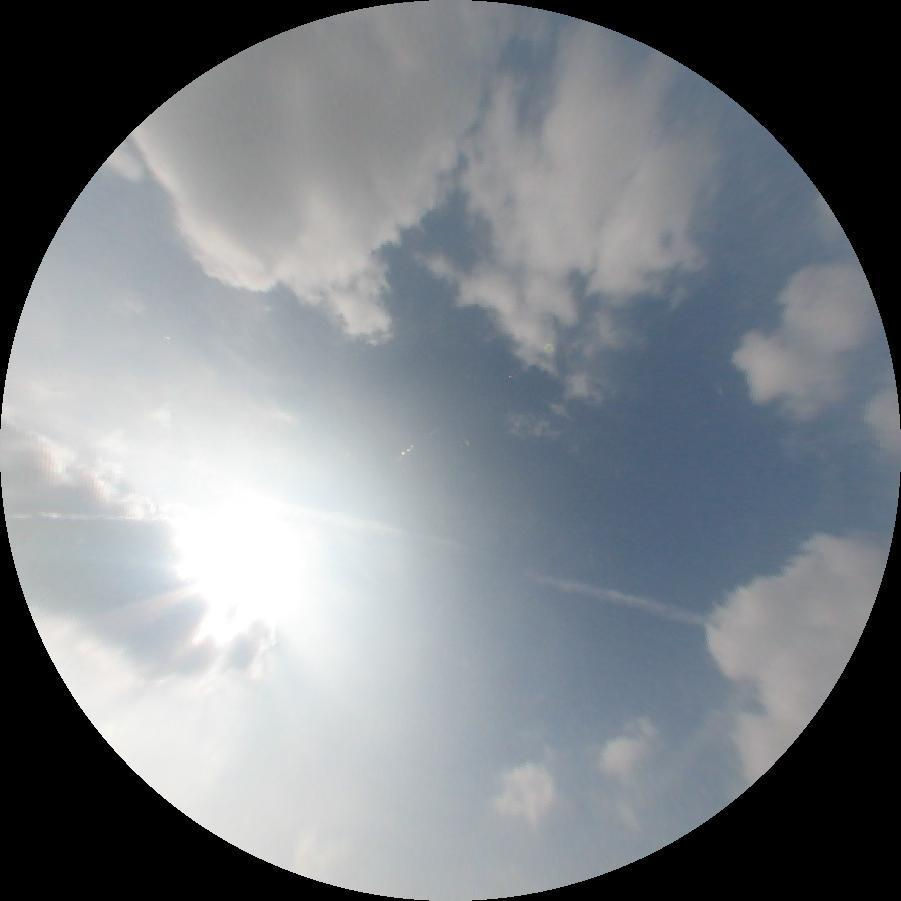contrail veryold: (302, 501, 711, 628)
parasite: (6, 510, 167, 523)
sun: (159, 481, 324, 653)
